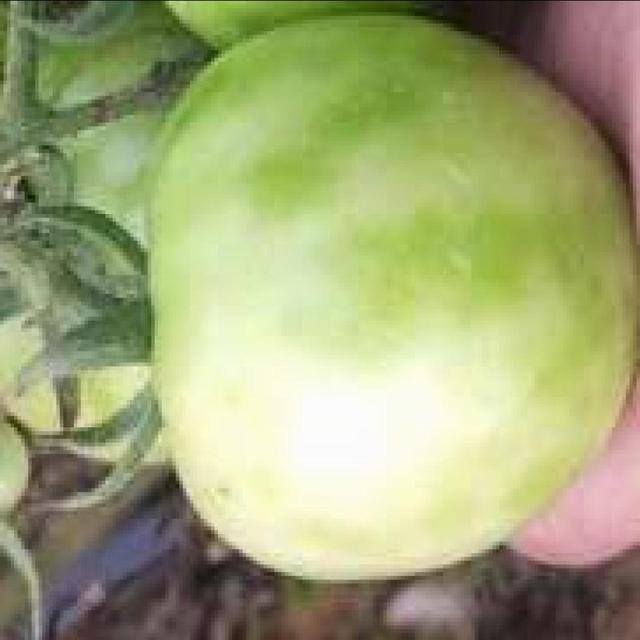Spotted wilt Virus Fruit: (230, 58, 549, 79)
